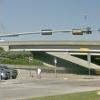Bridge: (4, 34, 99, 67)
